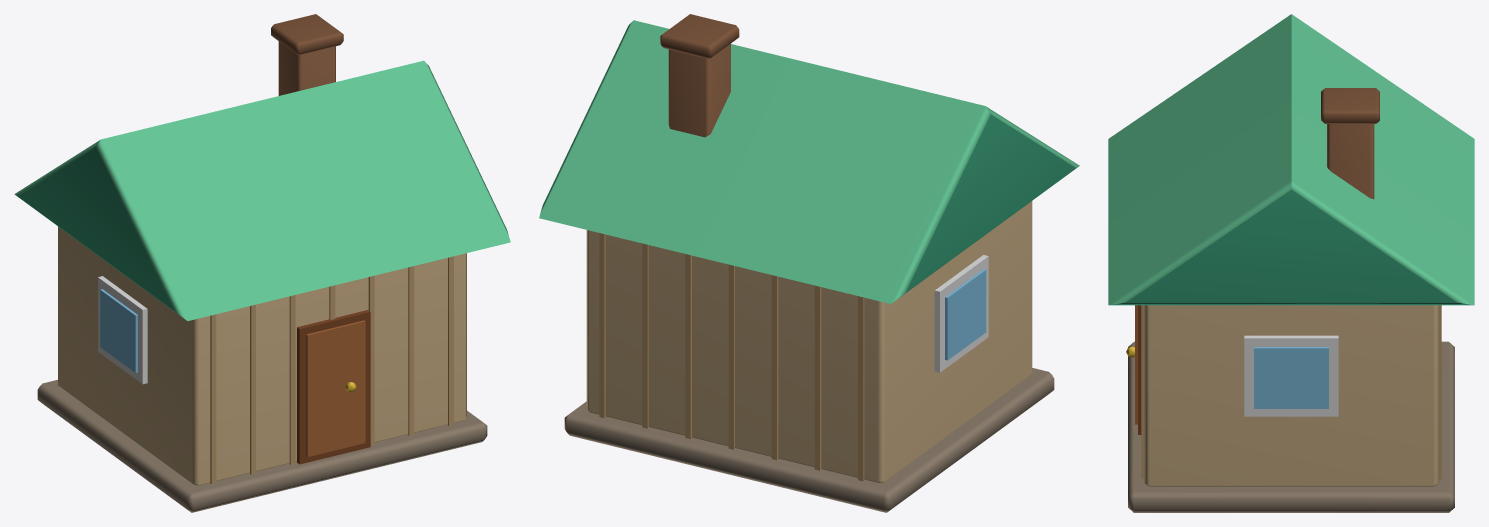
File: mint-deco3.glb
The picture shows the model from 3 angles, left to right: view 1: azimuth 30°, elevation 25°; view 2: azimuth 150°, elevation 25°; view 3: azimuth 270°, elevation 25°; orthographic projection. The views are drawn at different scales.
Visible parts, largest first — view 1: mint-deco3; view 2: mint-deco3; view 3: mint-deco3.
Boxes of the visible parts, <box> form: mint-deco3: <box>14,14,510,512</box>; mint-deco3: <box>539,14,1079,512</box>; mint-deco3: <box>1108,14,1474,512</box>.
Size of the model in its own units: 2.06 by 2.11 by 1.86.
